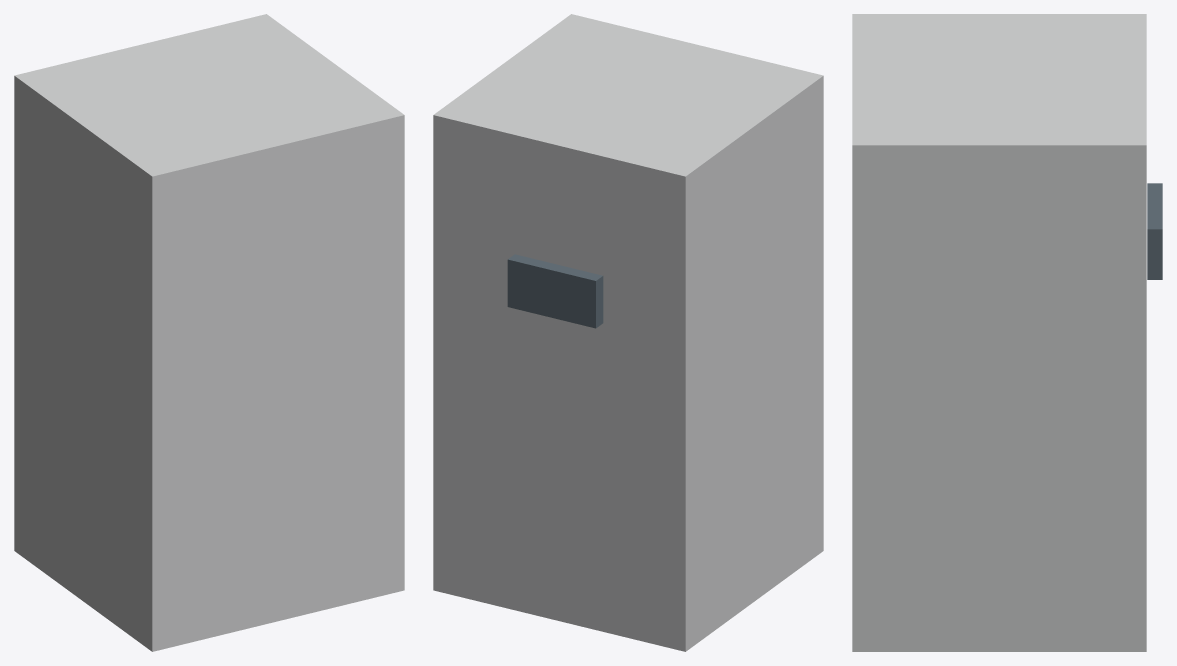
Rendered from boiler.glb.
The picture shows the model from 3 angles, left to right: view 1: azimuth 30°, elevation 25°; view 2: azimuth 150°, elevation 25°; view 3: azimuth 270°, elevation 25°; orthographic projection. The views are drawn at different scales.
Visible parts, largest first — view 1: body_0; view 2: body_0, display_3; view 3: body_0, display_3.
Part boxes in pixels (box(x1,y1,x2,y2)): body_0: box(14, 14, 404, 651); body_0: box(433, 14, 823, 651); display_3: box(507, 254, 603, 328); body_0: box(852, 14, 1146, 651); display_3: box(1147, 183, 1162, 279).
Size of the model in its own units: 0.5 by 0.9 by 0.5.
